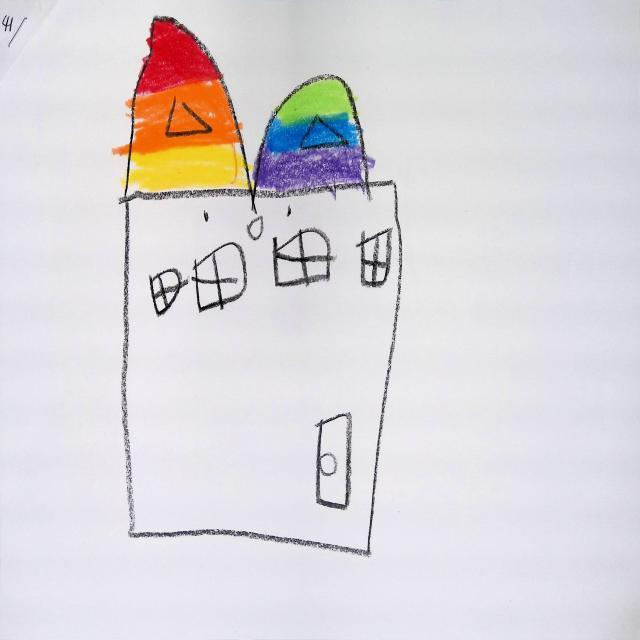door: (316, 414, 352, 511)
house: (113, 8, 409, 561)
roof: (116, 16, 250, 192), (255, 75, 368, 192)
wall: (115, 176, 406, 564)
window: (192, 243, 246, 312), (274, 228, 334, 286), (357, 228, 393, 287), (150, 268, 188, 316)
